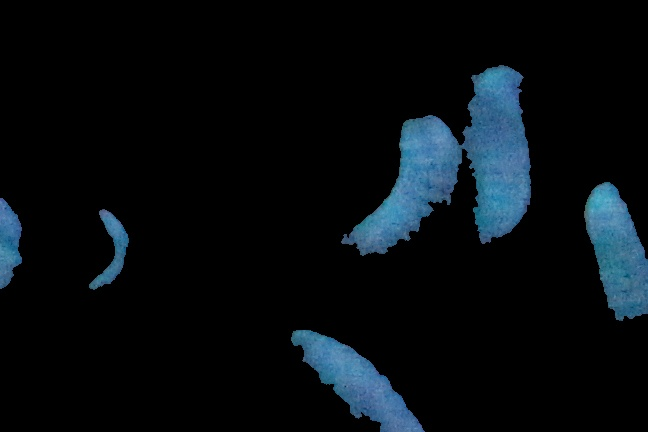larvae: (344, 108, 460, 263), (282, 324, 435, 432), (467, 52, 537, 248), (577, 176, 648, 331), (70, 198, 147, 302), (1, 188, 35, 307)
